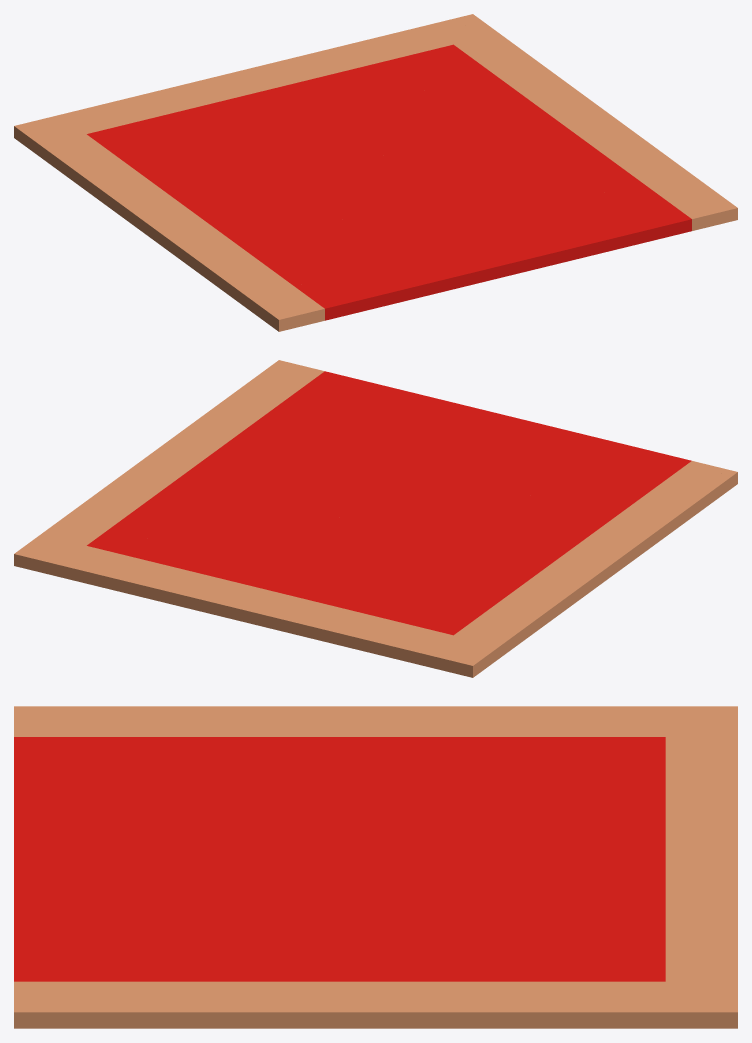
Rendered from carpet-end.fbx.
The picture shows the model from 3 angles, top to bottom: view 1: azimuth 30°, elevation 25°; view 2: azimuth 150°, elevation 25°; view 3: azimuth 270°, elevation 25°; orthographic projection. The views are drawn at different scales.
Visible parts, largest first — view 1: carpet-end; view 2: carpet-end; view 3: carpet-end.
Boxes of the visible parts, x1,y1,x2,y2 form: carpet-end: (14, 14, 737, 331); carpet-end: (14, 360, 737, 677); carpet-end: (14, 706, 737, 1028).
Size of the model in its own units: 200 by 5 by 200.
